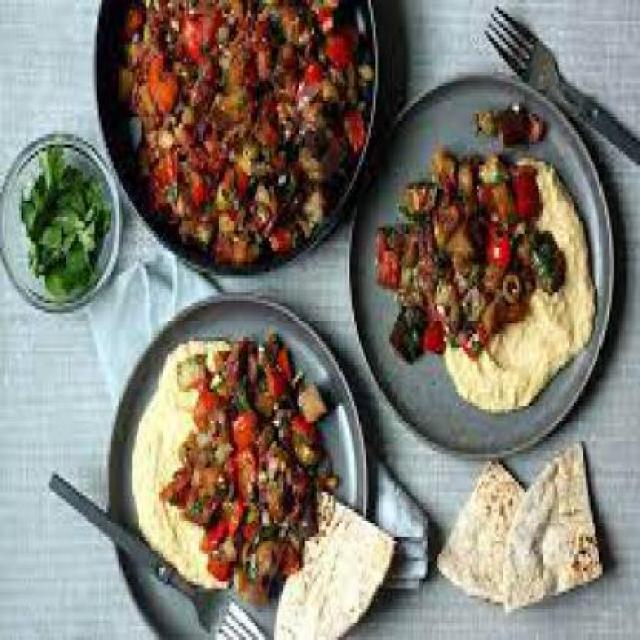eggplant: (376, 106, 555, 365), (177, 331, 348, 595)
hummus: (446, 158, 600, 413), (132, 327, 225, 588)
